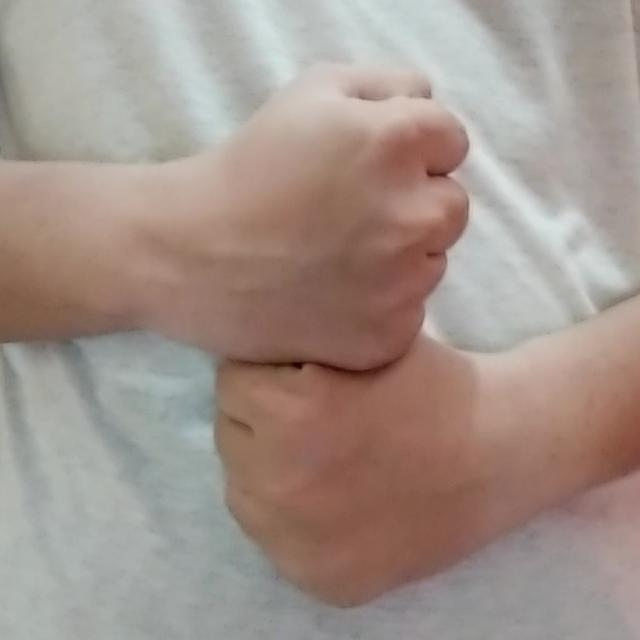G: (170, 58, 511, 622)
